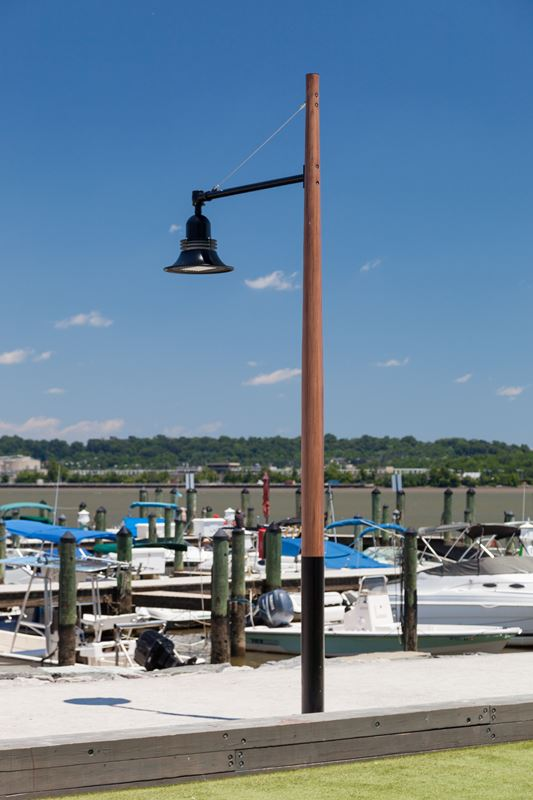light_pole: (288, 69, 336, 724)
